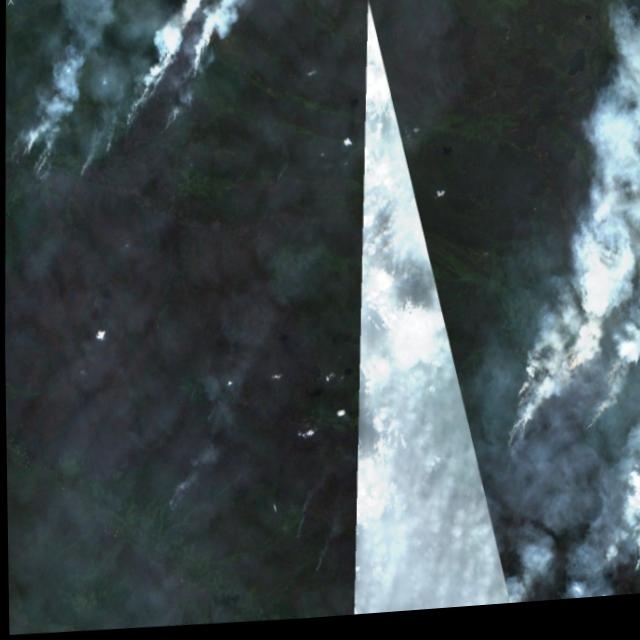fire: (502, 340, 612, 470), (125, 0, 225, 134), (4, 102, 92, 194), (201, 386, 226, 459), (157, 480, 190, 524), (305, 554, 324, 591), (289, 519, 300, 552)
